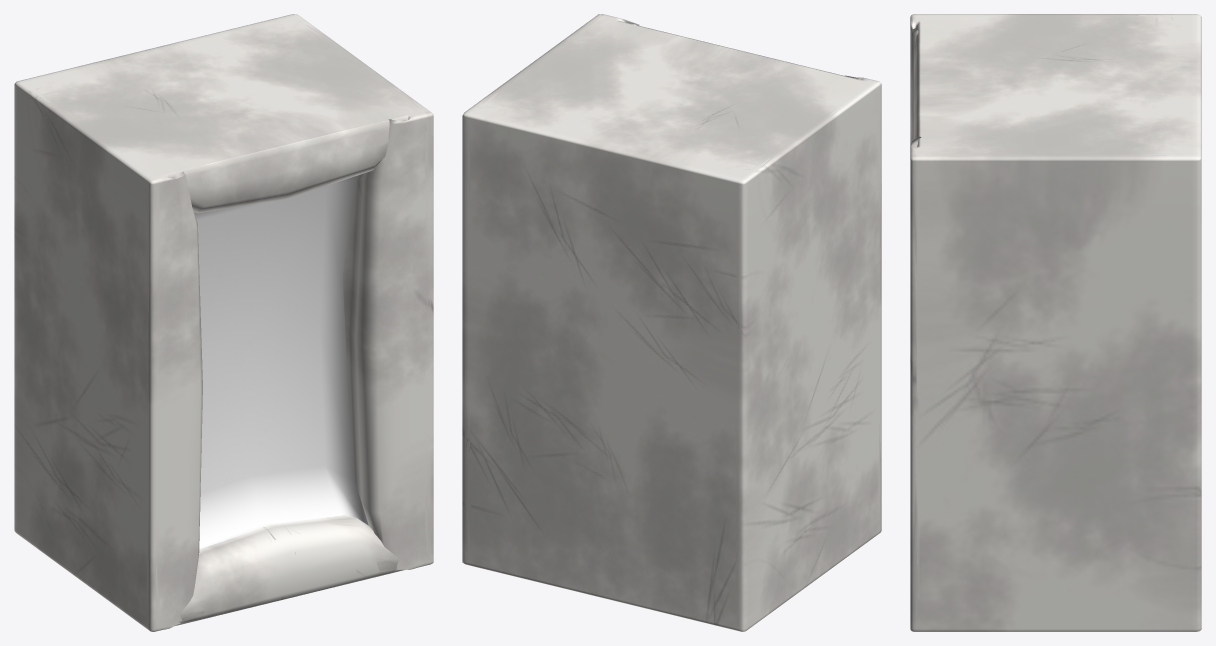
Rendered from napkins.glb.
The picture shows the model from 3 angles, left to right: view 1: azimuth 30°, elevation 25°; view 2: azimuth 150°, elevation 25°; view 3: azimuth 270°, elevation 25°; orthographic projection. The views are drawn at different scales.
Visible parts, largest first — view 1: pCube1; view 2: pCube1; view 3: pCube1.
Boxes of the visible parts, x1=… form: pCube1: x1=14, y1=14, x2=433, y2=631; pCube1: x1=462, y1=14, x2=881, y2=631; pCube1: x1=910, y1=14, x2=1201, y2=631.
Size of the model in its own units: 1.31 by 2 by 1.11.
Materials: 1 (1 with a texture image).
